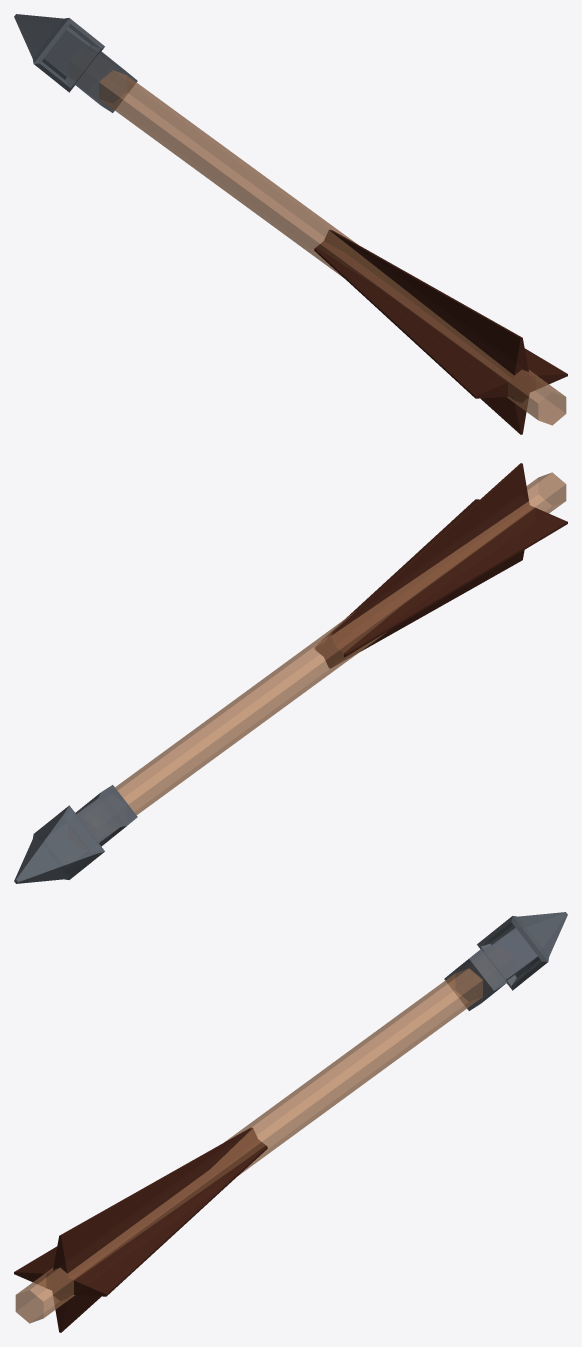
File: Arrow.fbx
3 views of the same model, one above another, from view 1: azimuth 30°, elevation 25°; view 2: azimuth 150°, elevation 25°; view 3: azimuth 330°, elevation 25° (orthographic).
Visible parts, largest first — view 1: Cube.001; view 2: Cube.001; view 3: Cube.001.
Boxes of the visible parts, left/top/right/bottom form: Cube.001: left=14, top=14, right=567, bottom=434; Cube.001: left=14, top=463, right=567, bottom=883; Cube.001: left=14, top=912, right=567, bottom=1332.
Size of the model in its own units: 45.74 by 45.74 by 460.
